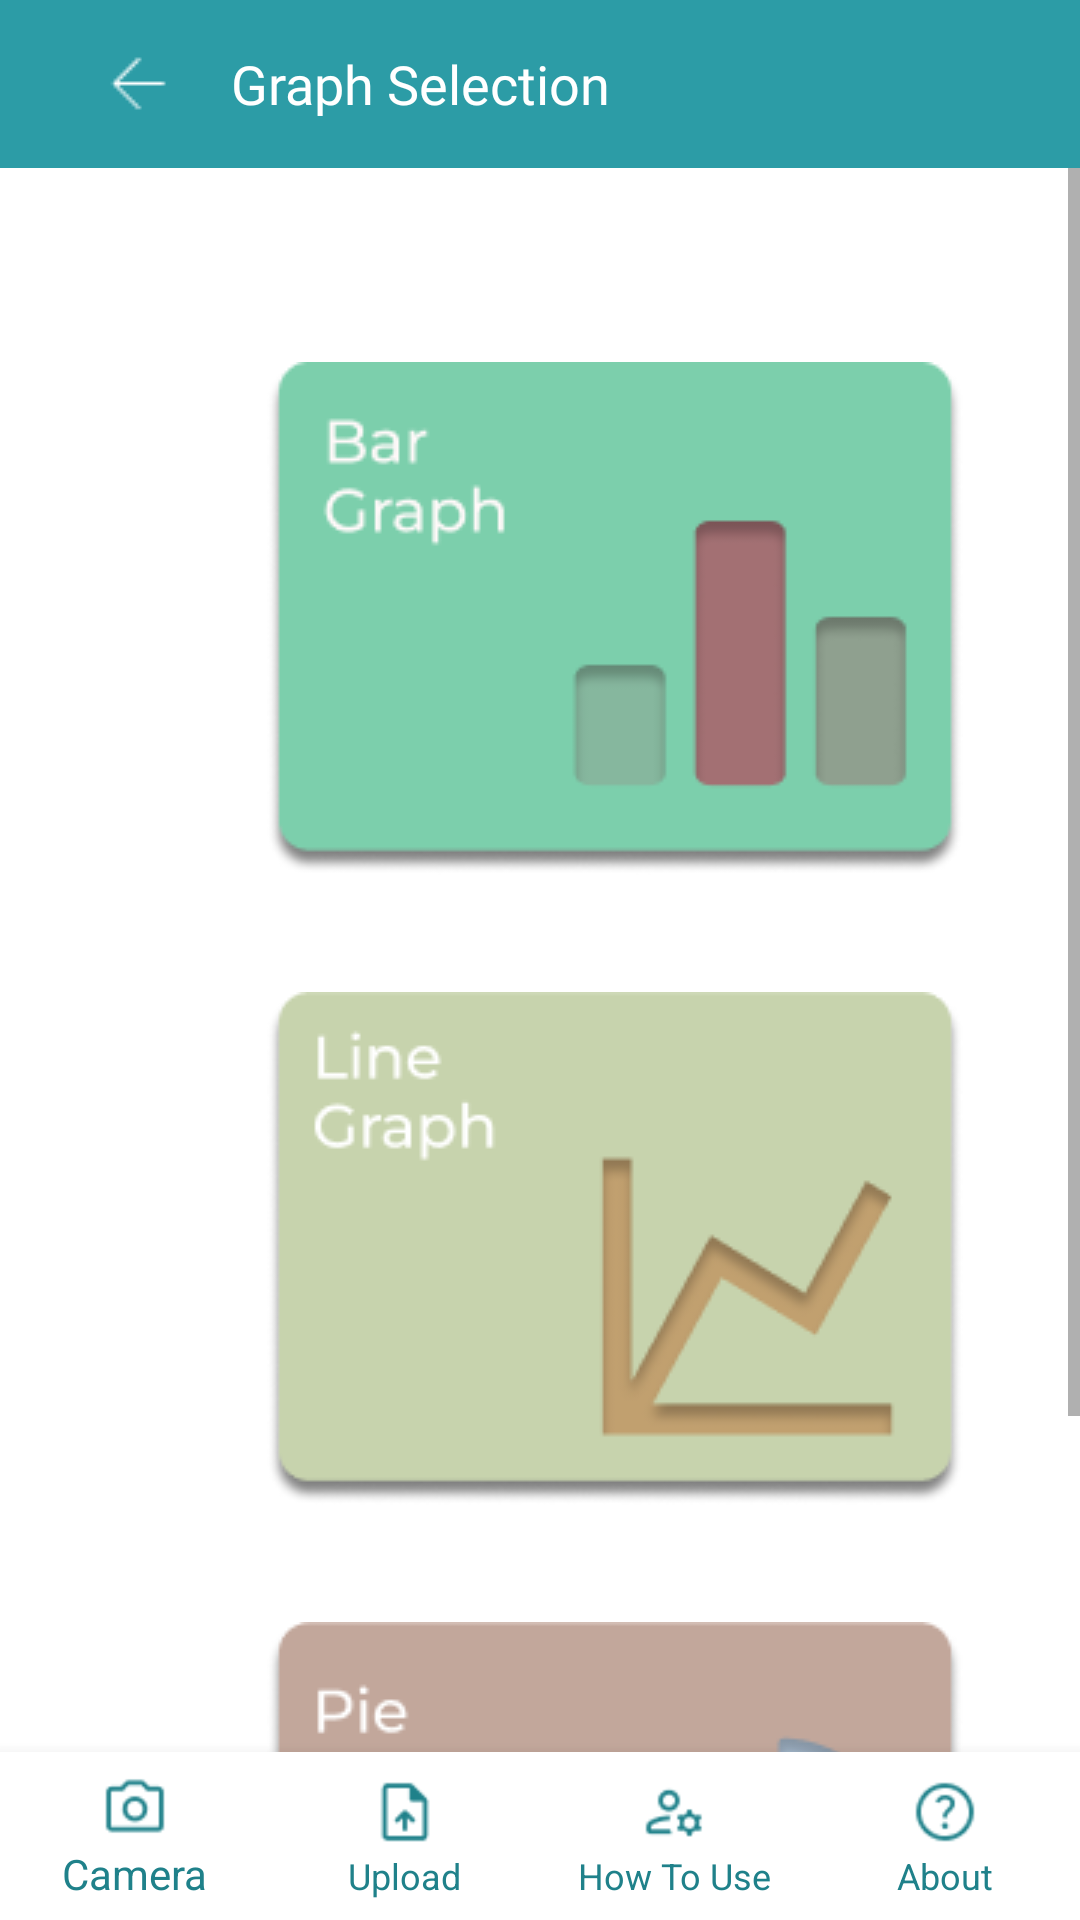

Where icons sit on this 1080px x 1920px app screen, as (x1, y1, x2, y2):
fback: (111, 57, 166, 110)
